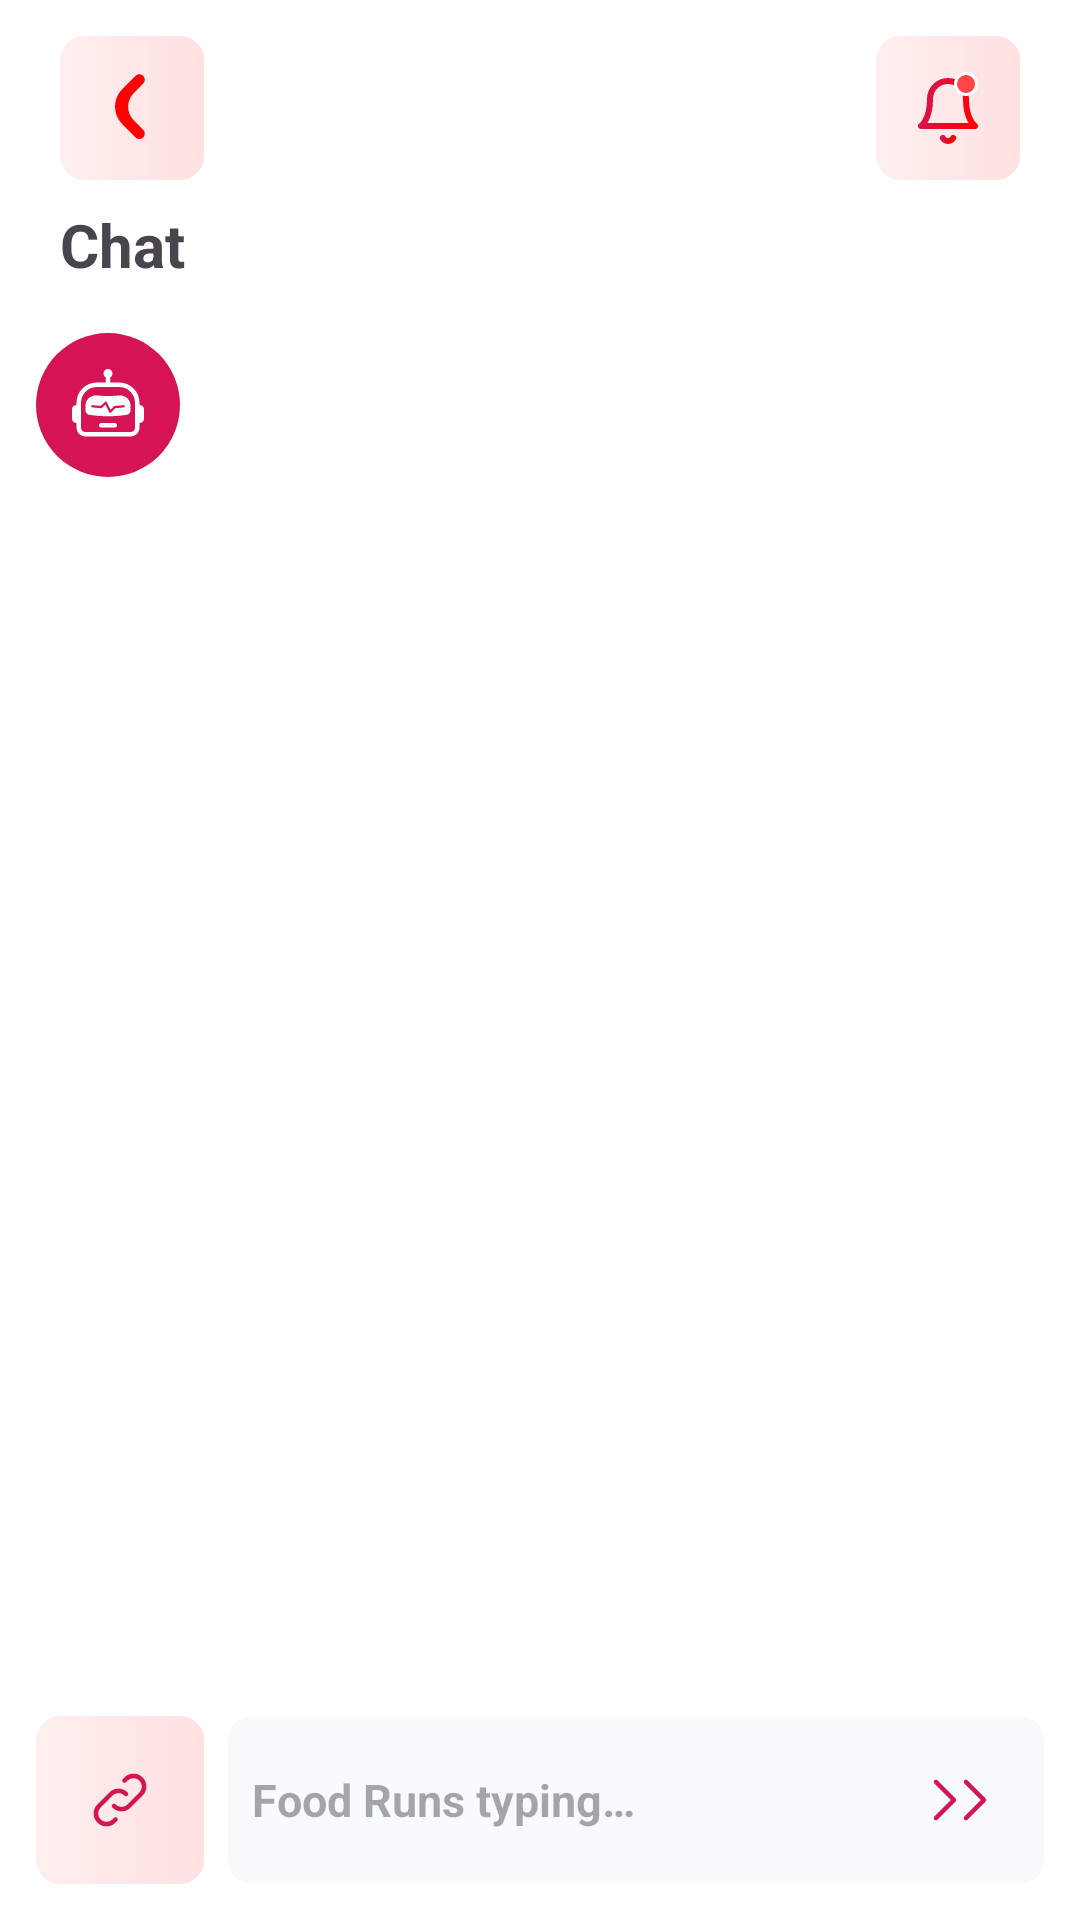

Where to tap for icons on this 1080*1920 app screen, as (x=x, y=y):
back: (x=159, y=108)
bell: (x=969, y=108)
link: (x=148, y=1800)
robot: (x=108, y=405)
